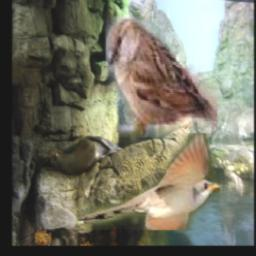Cuckoo: (77, 133, 220, 230)
Sparrow: (106, 18, 217, 138)
